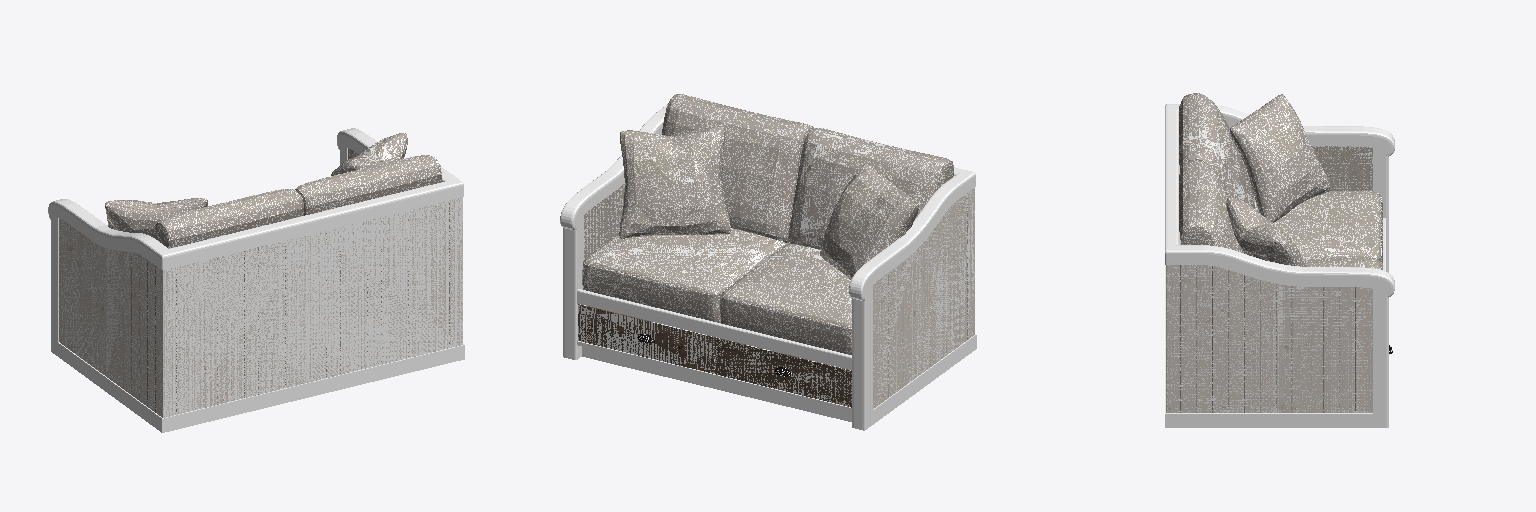
3 views of the same model, side by side, from view 1: azimuth 30°, elevation 25°; view 2: azimuth 150°, elevation 25°; view 3: azimuth 270°, elevation 25° (orthographic).
Visible parts, largest first — view 1: mesh19_mesh19-geometry, mesh4_mesh4-geometry, mesh14_mesh14-geometry, mesh17_mesh17-geometry, mesh2_mesh2-geometry, mesh25_mesh25-geometry, mesh12_mesh12-geometry, mesh18_mesh18-geometry, mesh26_mesh26-geometry, mesh3_mesh3-geometry, mesh27_mesh27-geometry; view 2: mesh19_mesh19-geometry, mesh1_mesh1-geometry, mesh2_mesh2-geometry, mesh3_mesh3-geometry, mesh16_mesh16-geometry, mesh17_mesh17-geometry, mesh18_mesh18-geometry, mesh14_mesh14-geometry, mesh8_mesh8-geometry, mesh22_mesh22-geometry, mesh7_mesh7-geometry, mesh9_mesh9-geometry (+4 smaller); view 3: mesh4_mesh4-geometry, mesh14_mesh14-geometry, mesh18_mesh18-geometry, mesh16_mesh16-geometry, mesh17_mesh17-geometry, mesh2_mesh2-geometry, mesh13_mesh13-geometry, mesh3_mesh3-geometry, mesh23_mesh23-geometry, mesh15_mesh15-geometry, mesh27_mesh27-geometry, mesh1_mesh1-geometry.
Boxes of the visible parts, box(x1,y1,x2,y2) form: mesh19_mesh19-geometry: box(59, 218, 312, 417); mesh4_mesh4-geometry: box(313, 197, 462, 380); mesh14_mesh14-geometry: box(48, 128, 463, 269); mesh17_mesh17-geometry: box(152, 189, 303, 248); mesh2_mesh2-geometry: box(295, 155, 441, 215); mesh25_mesh25-geometry: box(162, 382, 313, 432); mesh12_mesh12-geometry: box(313, 345, 464, 395); mesh18_mesh18-geometry: box(105, 198, 207, 236); mesh26_mesh26-geometry: box(58, 342, 162, 432); mesh3_mesh3-geometry: box(331, 133, 407, 175); mesh27_mesh27-geometry: box(51, 218, 58, 355); mesh19_mesh19-geometry: box(873, 188, 974, 408); mesh1_mesh1-geometry: box(582, 228, 788, 322); mesh2_mesh2-geometry: box(662, 94, 813, 242); mesh3_mesh3-geometry: box(619, 126, 730, 238); mesh16_mesh16-geometry: box(720, 243, 851, 354); mesh17_mesh17-geometry: box(788, 128, 953, 249); mesh18_mesh18-geometry: box(820, 164, 918, 279); mesh14_mesh14-geometry: box(560, 104, 975, 300); mesh8_mesh8-geometry: box(578, 304, 715, 373); mesh22_mesh22-geometry: box(715, 337, 851, 407); mesh7_mesh7-geometry: box(577, 289, 851, 369); mesh9_mesh9-geometry: box(577, 341, 851, 421); mesh4_mesh4-geometry: box(1166, 265, 1372, 412); mesh14_mesh14-geometry: box(1165, 104, 1394, 297); mesh18_mesh18-geometry: box(1230, 94, 1330, 222); mesh16_mesh16-geometry: box(1254, 191, 1382, 262); mesh17_mesh17-geometry: box(1179, 93, 1254, 207); mesh2_mesh2-geometry: box(1179, 160, 1242, 252); mesh13_mesh13-geometry: box(1165, 413, 1372, 427); mesh3_mesh3-geometry: box(1226, 197, 1307, 266); mesh23_mesh23-geometry: box(1311, 146, 1372, 190); mesh15_mesh15-geometry: box(1373, 289, 1388, 427); mesh27_mesh27-geometry: box(1373, 148, 1388, 272); mesh1_mesh1-geometry: box(1303, 257, 1381, 269).
Bounding box in the file's own units: 0.7411 × 0.4601 × 0.489.
13 materials, 9 textured.